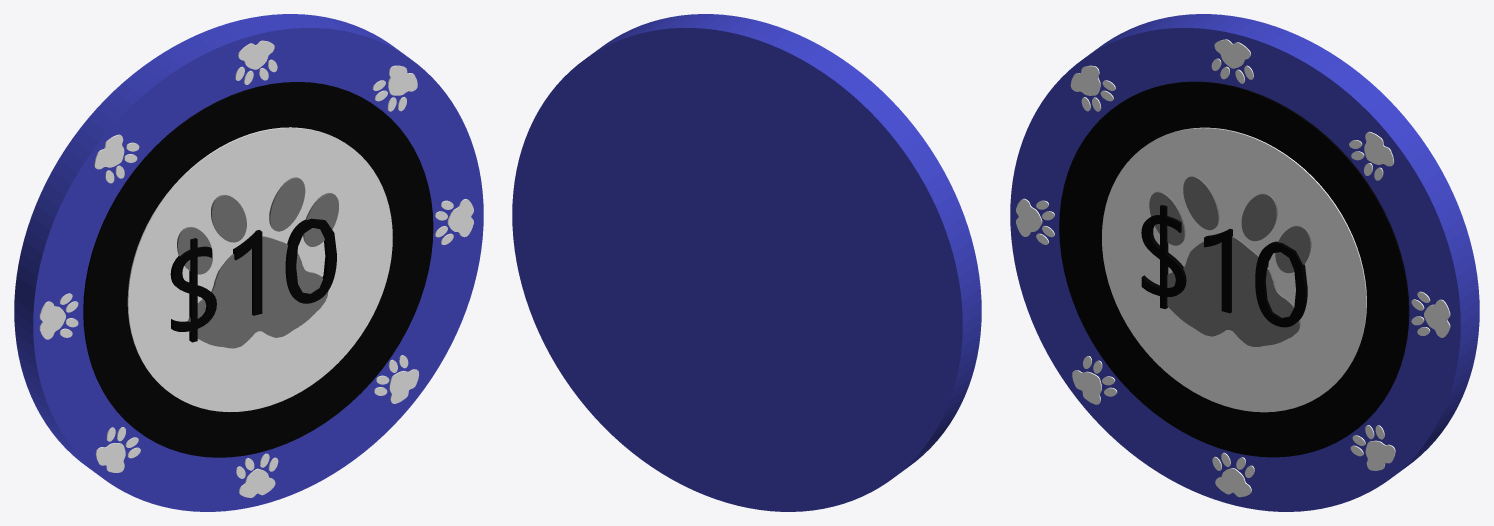
The model's file is Blue paw chip.fbx.
The picture shows the model from 3 angles, left to right: view 1: azimuth 30°, elevation 25°; view 2: azimuth 150°, elevation 25°; view 3: azimuth 330°, elevation 25°; orthographic projection.
Visible parts, largest first — view 1: root (×2), node_id4, node_id258, node_id318, node_id260, node_id215, node_id220, node_id242, node_id161, node_id192, node_id226, node_id231 (+1 smaller); view 2: node_id4; view 3: root (×2), node_id4, node_id258, node_id318, node_id260, node_id226, node_id231, node_id220, node_id215, node_id192, node_id237, node_id161 (+1 smaller).
Part boxes in pixels (x1,y1,x2,y2): root (×2): (83,82,433,457); node_id4: (14,14,483,511); node_id258: (188,236,328,348); node_id318: (170,218,336,342); node_id260: (177,177,338,274); node_id215: (94,134,124,169); node_id220: (389,369,419,403); node_id242: (39,301,65,339); node_id161: (239,468,275,497); node_id192: (238,40,274,69); node_id226: (388,65,417,95); node_id231: (95,443,125,472); node_id4: (512,14,981,511); root (×2): (1059,81,1409,457); node_id4: (1010,14,1479,511); node_id258: (1167,236,1300,346); node_id318: (1141,205,1307,327); node_id260: (1149,176,1311,273); node_id226: (1364,131,1394,166); node_id231: (1072,370,1101,404); node_id220: (1365,440,1395,470); node_id215: (1070,65,1100,95); node_id192: (1214,39,1250,68); node_id237: (1424,299,1450,337); node_id161: (1215,468,1251,497).
Bounding box in the file's own units: 0.5155 × 0.5155 × 0.0466.
8 materials, 5 textured.
